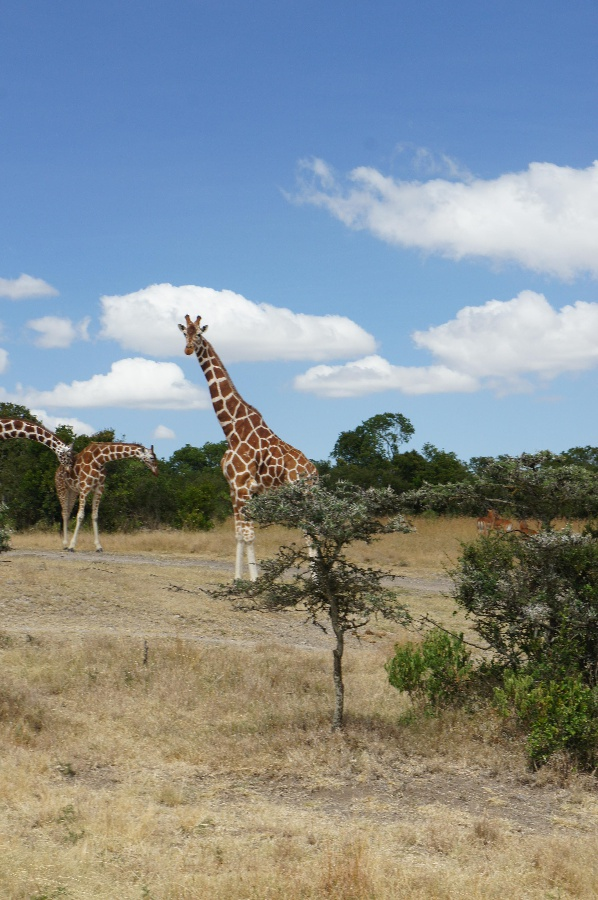giraffe: (174, 310, 353, 594), (46, 431, 162, 558), (0, 407, 83, 476)
